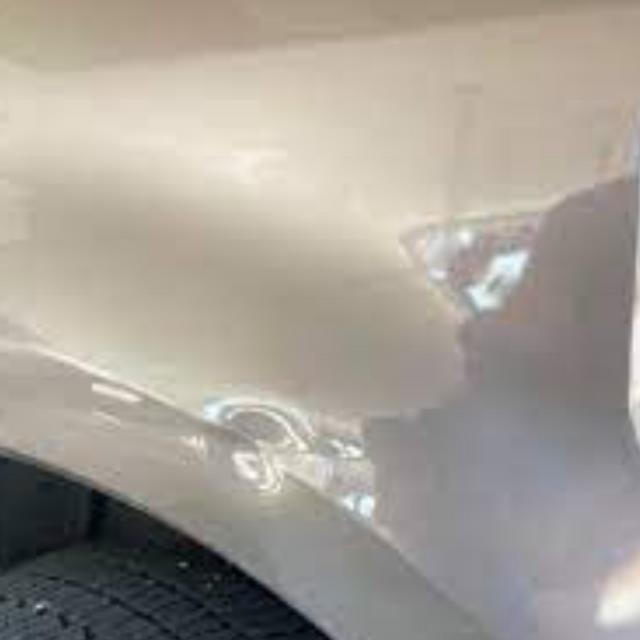dents: (182, 378, 348, 524)
